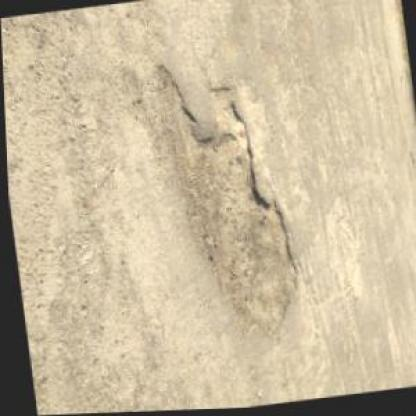pothole: (146, 47, 305, 351)
